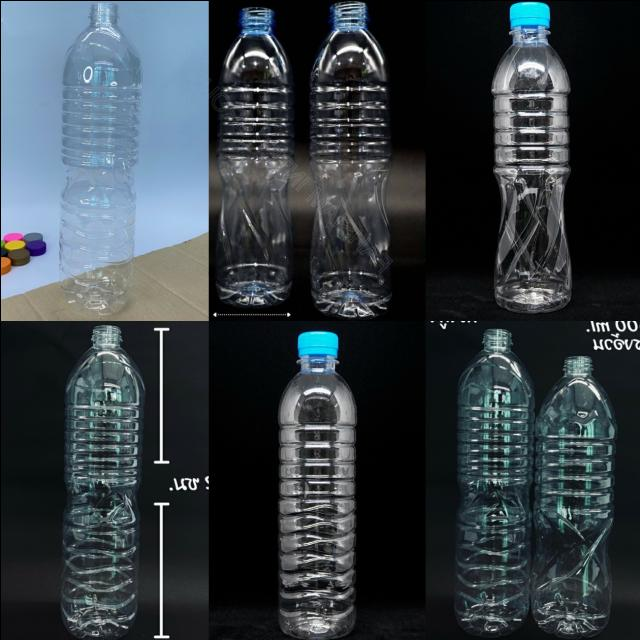plastik: (59, 324, 143, 640), (58, 1, 141, 315), (309, 1, 391, 318), (453, 328, 534, 637), (490, 1, 569, 310), (277, 330, 356, 639), (531, 355, 616, 638), (215, 6, 293, 306)
